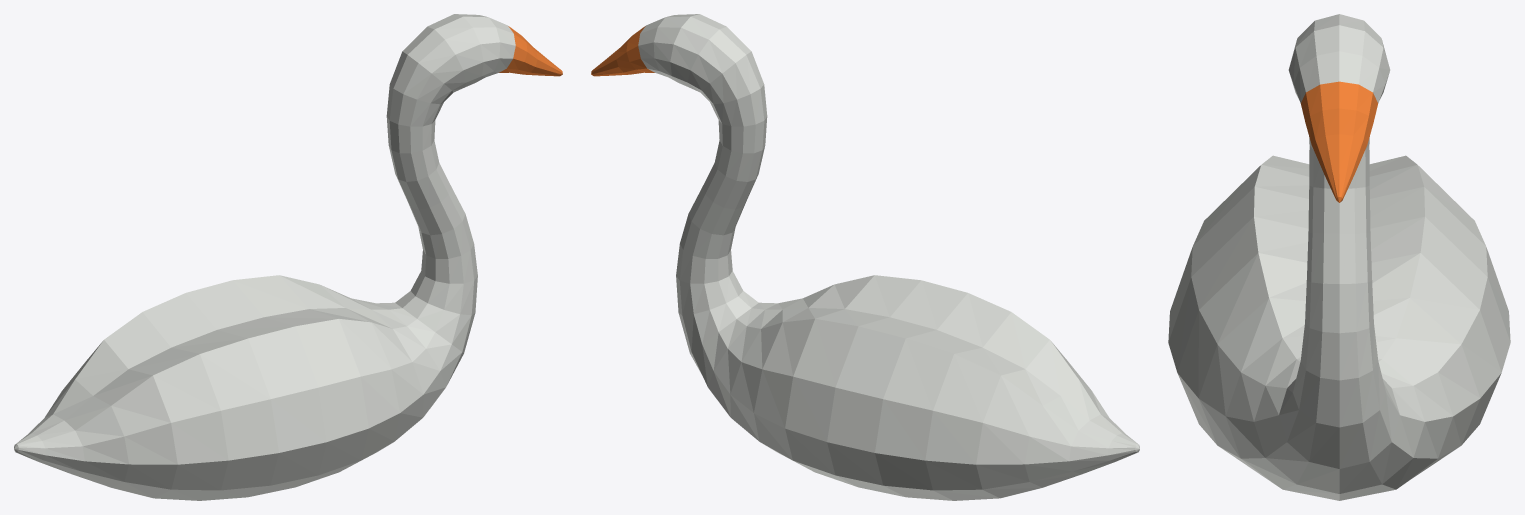
The model's file is NEW_RECOVERY_038_LOD1.fbx.
The picture shows the model from 3 angles, left to right: view 1: azimuth 30°, elevation 25°; view 2: azimuth 150°, elevation 25°; view 3: azimuth 270°, elevation 25°; orthographic projection. The views are drawn at different scales.
Visible parts, largest first — view 1: Swan; view 2: Swan; view 3: Swan.
Boxes of the visible parts, <box> form: Swan: <box>14,14,562,500</box>; Swan: <box>591,14,1139,500</box>; Swan: <box>1168,14,1510,500</box>.
Bounding box in the file's own units: 356 × 141 × 254.
